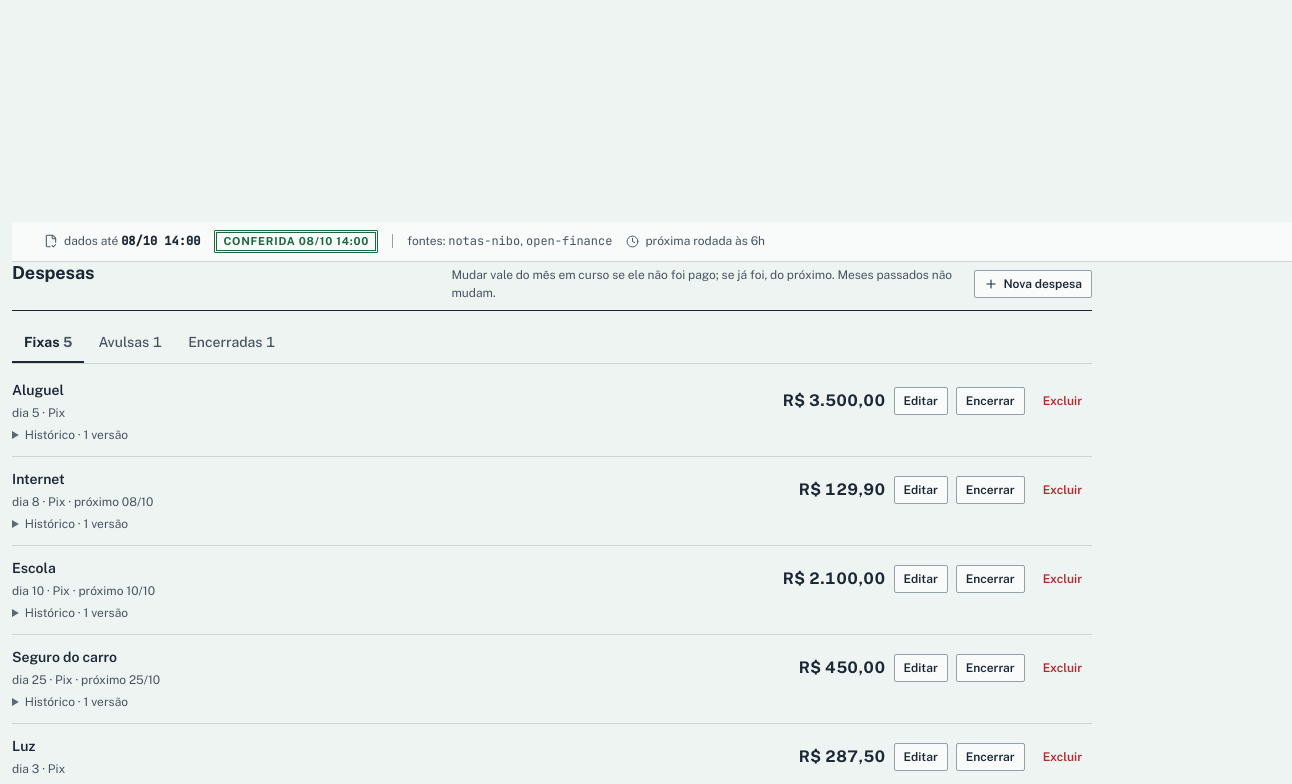
Scenario: Cadastros › Despesas: excluir pede confirmação; se já teve pagamento avisa que foi encerrada
(page scrolled)
Step 1. Click the button with aria-label "Excluir Aluguel" → x=1062, y=401, box [1033,387,1092,415]
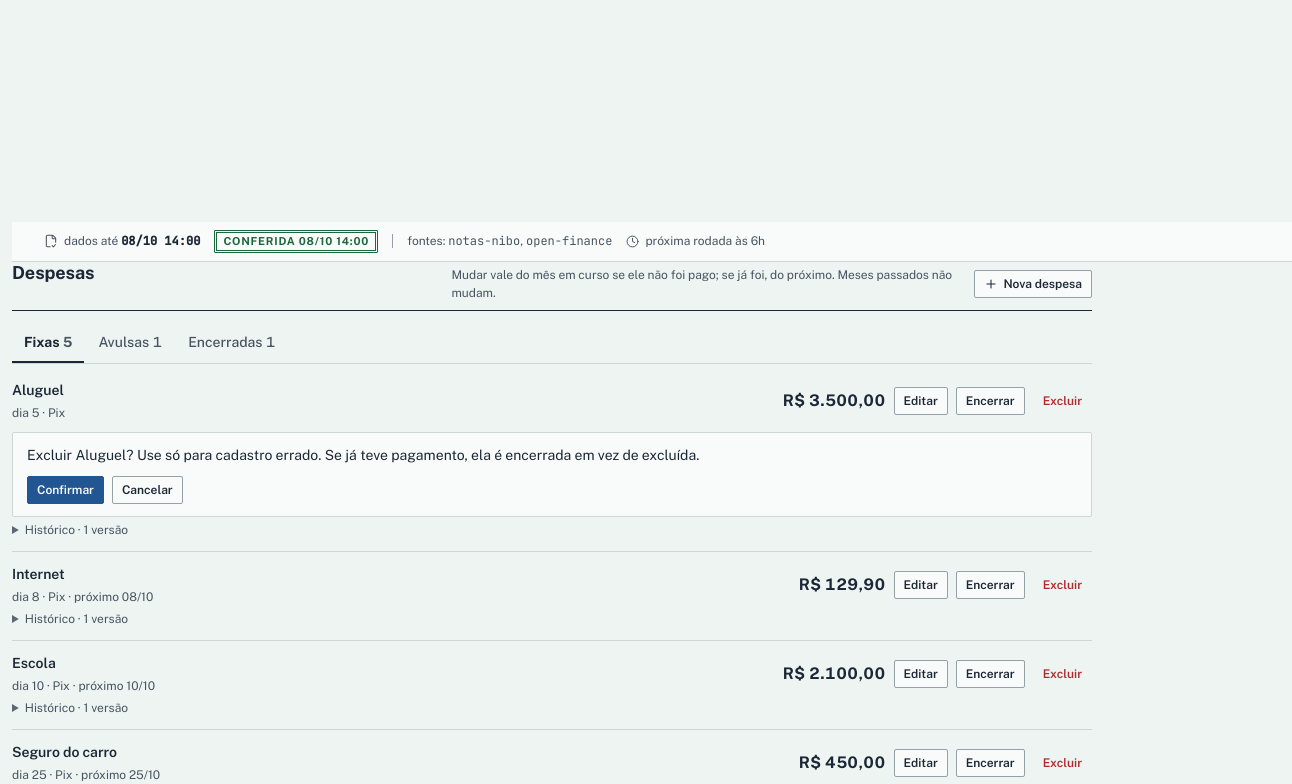
Step 2. Click the button with aria-label "Confirmar excluir Aluguel" → x=65, y=490, box [27,476,104,504]
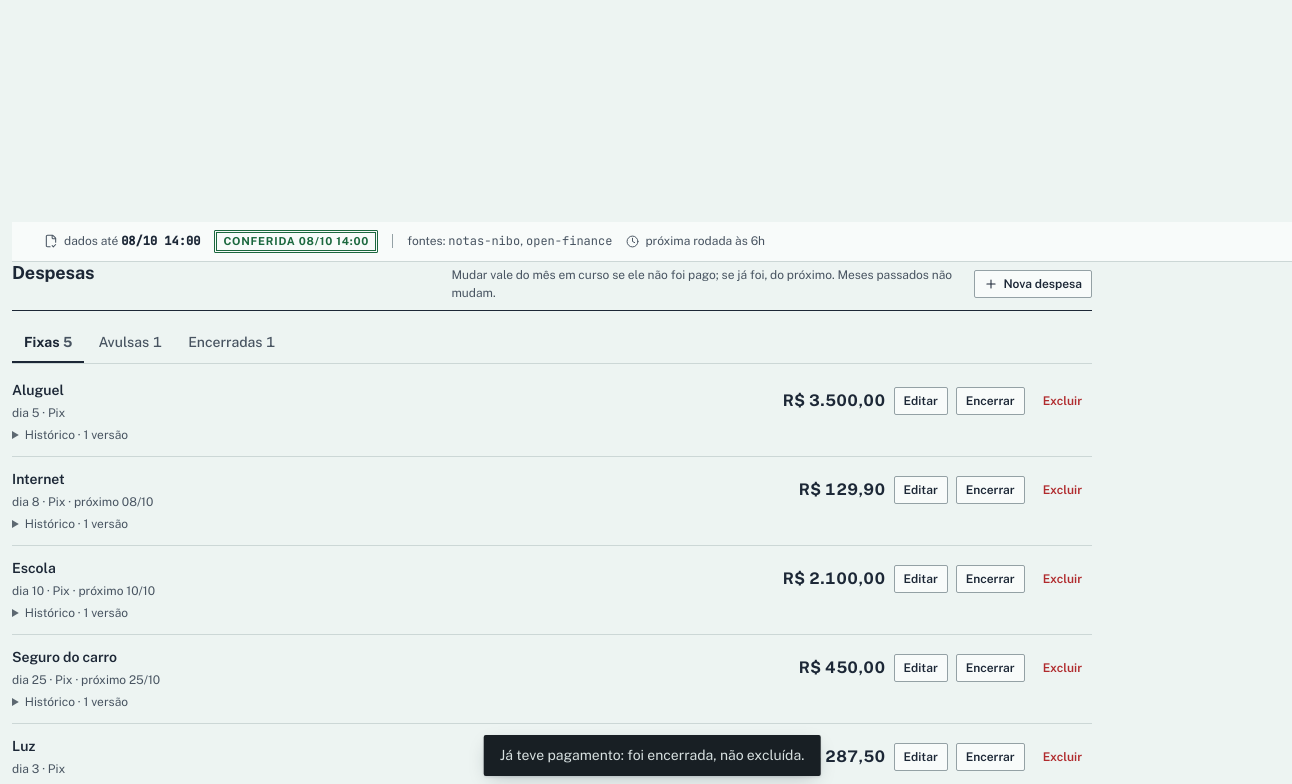
Now the message "Já teve pagamento: foi encerrada, não excluída." is shown, box [484,735,820,776]
